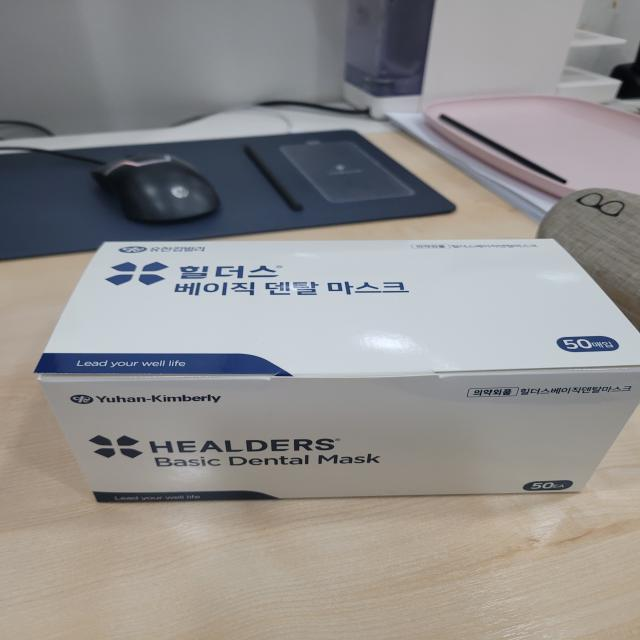mask: (25, 228, 640, 532)
